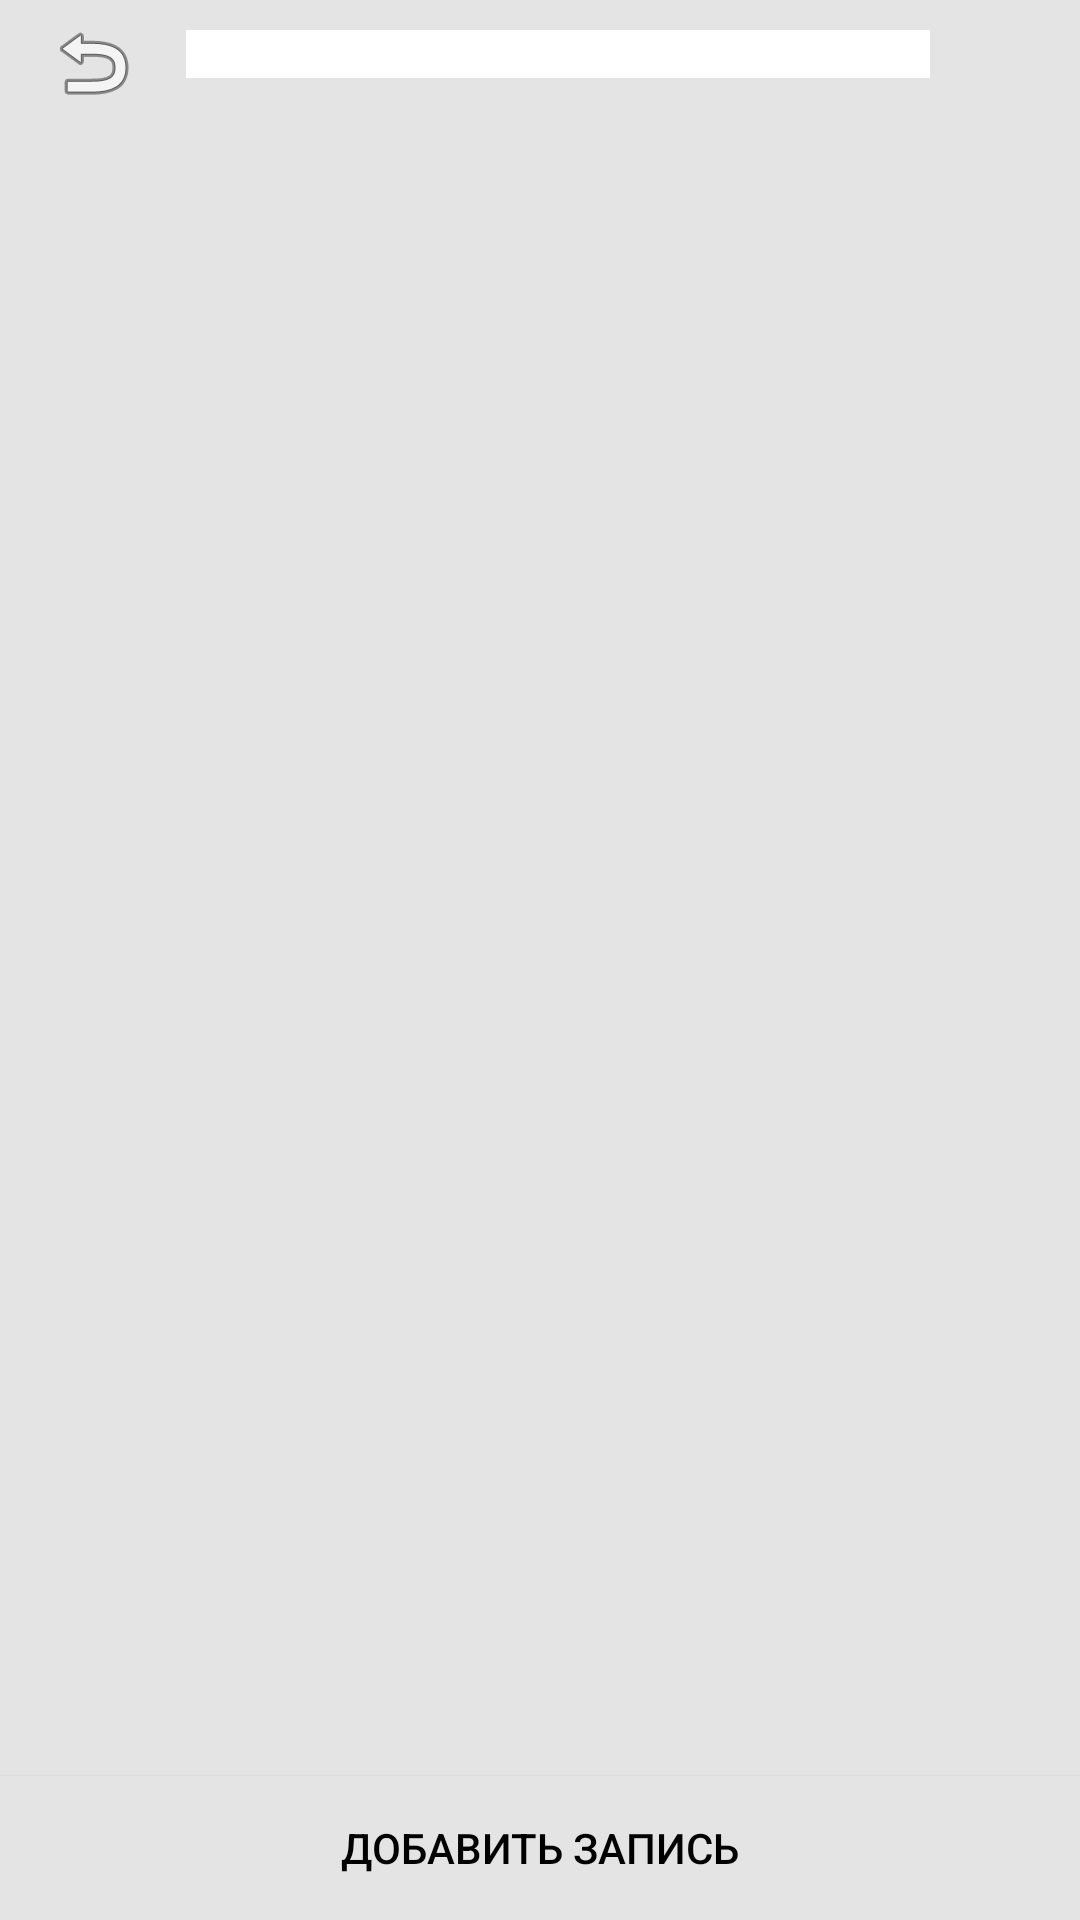

Named icons in this screenshot (1080×1920) and their centers, [x,y]:
Назад: [94,63]
